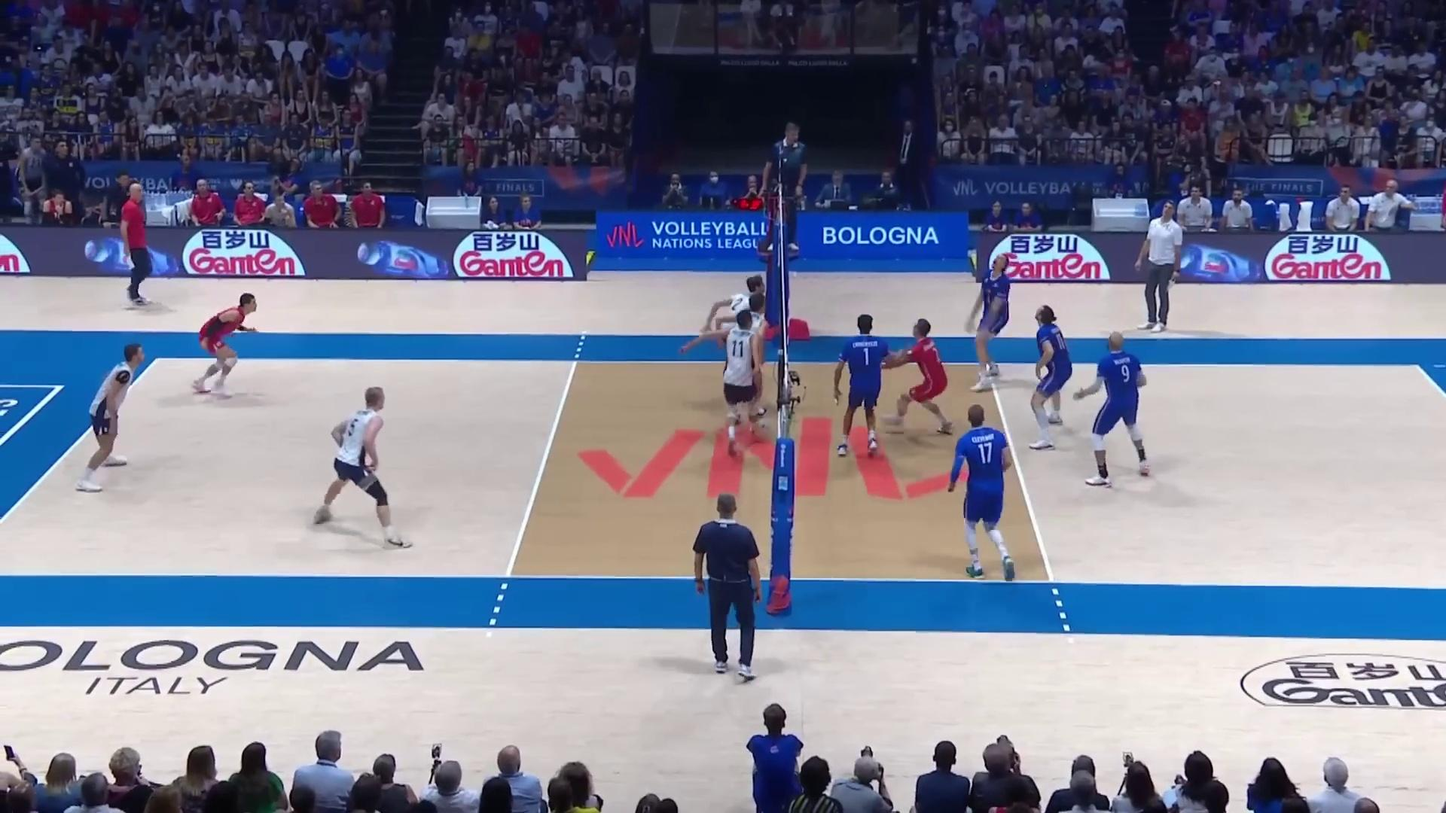player: (315, 388, 411, 545), (943, 406, 1021, 580), (1069, 334, 1153, 487), (83, 345, 151, 492), (830, 314, 893, 453), (718, 309, 773, 461), (886, 320, 952, 435), (192, 293, 262, 401), (716, 295, 769, 423), (1028, 303, 1071, 450), (966, 254, 1011, 391), (717, 273, 769, 379)
refree: (691, 496, 762, 673), (765, 125, 808, 254)
